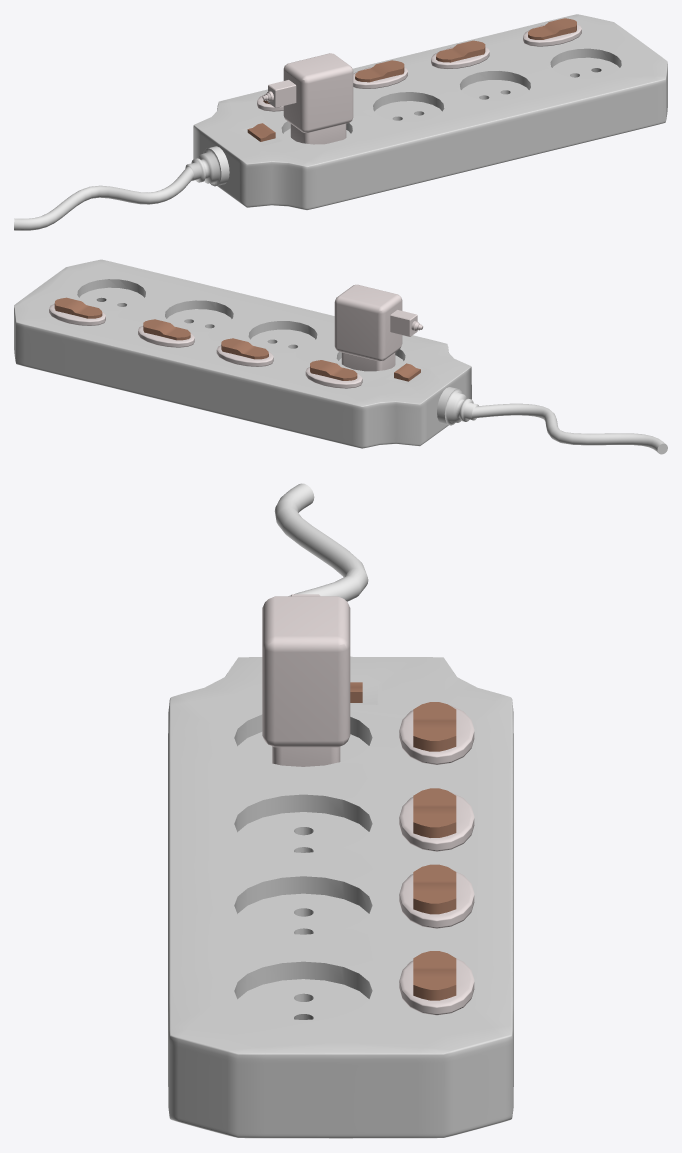
Rendered from multi-outlet.fbx.
3 renders of one model, top to bottom at view 1: azimuth 30°, elevation 25°; view 2: azimuth 150°, elevation 25°; view 3: azimuth 270°, elevation 25°, orthographic. The views are drawn at different scales.
Visible parts, largest first — view 1: polySurface2, pCube7, pCylinder10, pCylinder9, pCube8, pCube3, pCube5, pCube2, pCube9, pCylinder6, pCylinder5, pCylinder7 (+1 smaller); view 2: polySurface2, pCube7, pCylinder10, pCylinder9, pCube8, pCube3, pCube2, pCube5, pCube4, pCube9, pCylinder7, pCylinder8 (+3 smaller); view 3: polySurface2, pCube7, pCylinder10, pCube3, pCube4, pCube5, pCube2, pCylinder5, pCylinder6, pCylinder7, pCylinder8, pCube8.
Part boxes in pixels (bbox=[...]): polySurface2: bbox=[193, 14, 667, 210]; pCube7: bbox=[283, 53, 353, 132]; pCylinder10: bbox=[14, 167, 193, 230]; pCylinder9: bbox=[185, 146, 229, 186]; pCube8: bbox=[290, 123, 346, 144]; pCube3: bbox=[436, 40, 485, 62]; pCube5: bbox=[355, 60, 404, 82]; pCube2: bbox=[528, 18, 576, 39]; pCube9: bbox=[268, 80, 296, 107]; pCylinder6: bbox=[431, 47, 489, 68]; pCylinder5: bbox=[523, 24, 581, 46]; pCylinder7: bbox=[353, 67, 407, 88]; polySurface2: bbox=[14, 259, 471, 448]; pCube7: bbox=[334, 284, 402, 361]; pCylinder10: bbox=[472, 403, 667, 454]; pCylinder9: bbox=[437, 387, 478, 425]; pCube8: bbox=[341, 352, 395, 371]; pCube3: bbox=[143, 319, 190, 340]; pCube2: bbox=[54, 297, 102, 318]; pCube5: bbox=[221, 338, 268, 359]; pCube4: bbox=[310, 360, 357, 380]; pCube9: bbox=[390, 310, 417, 336]; pCylinder7: bbox=[216, 345, 273, 366]; pCylinder8: bbox=[305, 367, 362, 388]; polySurface2: bbox=[168, 657, 513, 1138]; pCube7: bbox=[262, 596, 350, 747]; pCylinder10: bbox=[274, 483, 368, 601]; pCube3: bbox=[413, 864, 456, 914]; pCube4: bbox=[413, 702, 456, 751]; pCube5: bbox=[413, 788, 456, 837]; pCube2: bbox=[413, 951, 456, 1000]; pCylinder5: bbox=[399, 958, 474, 1015]; pCylinder6: bbox=[399, 871, 474, 928]; pCylinder7: bbox=[399, 792, 474, 851]; pCylinder8: bbox=[399, 705, 474, 764]; pCube8: bbox=[272, 746, 340, 766].
Bounding box in the file's own units: 20.6 × 3.37 × 5.
